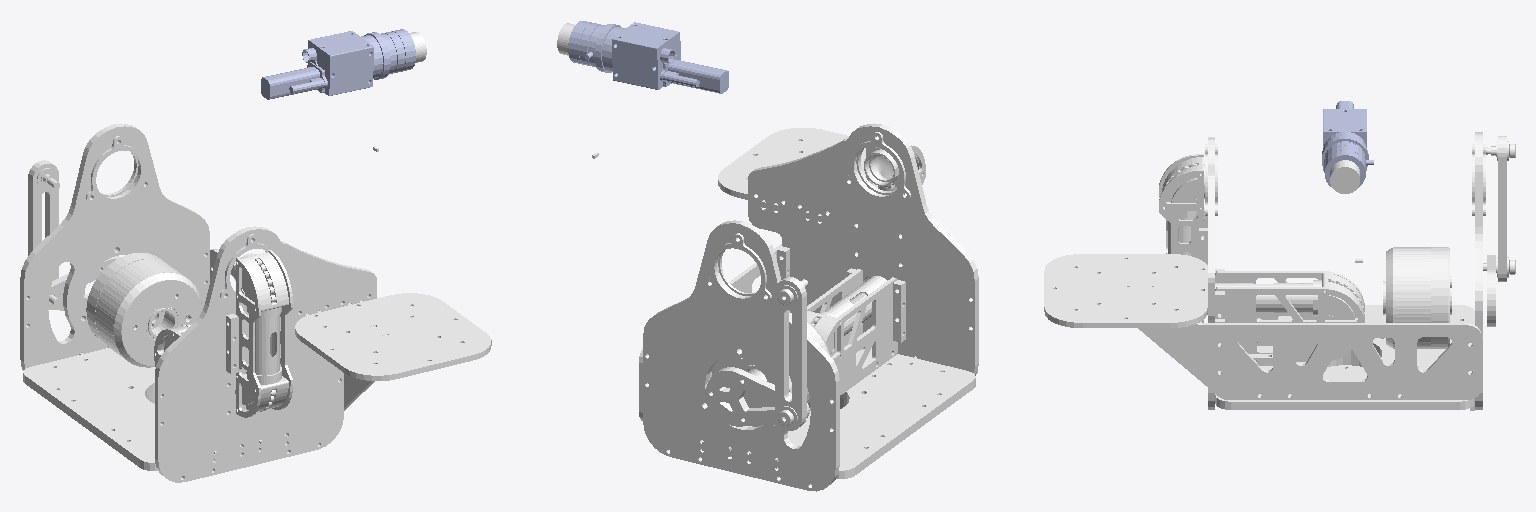
URDF robot description (infantry_description):
<?xml version="1.0" encoding="utf-8"?>
<!-- This URDF was automatically created by SolidWorks to URDF Exporter! Originally created by [author] ([email redacted]) 
     Commit Version: 1.6.0-4-g7f85cfe  Build Version: 1.6.7995.38578
     For more information, please see http://wiki.ros.org/sw_urdf_exporter -->
<robot
  name="infantry_description">
  <link
    name="base_link">
    <inertial>
      <origin
        xyz="-3.46944695195361E-18 0 -0.00500000000000001"
        rpy="0 0 0" />
      <mass
        value="0.00314159265358979" />
      <inertia
        ixx="1.0471975511966E-07"
        ixy="-6.44211342627335E-40"
        ixz="3.3800825853016E-24"
        iyy="1.0471975511966E-07"
        iyz="4.54297570299975E-24"
        izz="1.5707963267949E-07" />
    </inertial>
    <visual>
      <origin
        xyz="0 0 0"
        rpy="0 0 0" />
      <geometry>
        <mesh
          filename="package://infantry_description/meshes/base_link.STL" />
      </geometry>
      <material
        name="">
        <color
          rgba="1 1 1 1" />
      </material>
    </visual>
    <collision>
      <origin
        xyz="0 0 0"
        rpy="0 0 0" />
      <geometry>
        <mesh
          filename="package://infantry_description/meshes/base_link.STL" />
      </geometry>
    </collision>
  </link>
  <link
    name="yaw_link">
    <inertial>
      <origin
        xyz="0.00834189814872615 -0.00688166413835362 0.0610568636386575"
        rpy="0 0 0" />
      <mass
        value="1.32660368469229" />
      <inertia
        ixx="0.00193861324145548"
        ixy="6.76691433058715E-07"
        ixz="-5.27268220867132E-05"
        iyy="0.00200294577094062"
        iyz="4.06321530516485E-05"
        izz="0.00250502406103593" />
    </inertial>
    <visual>
      <origin
        xyz="0 0 0"
        rpy="0 0 0" />
      <geometry>
        <mesh
          filename="package://infantry_description/meshes/yaw_link.STL" />
      </geometry>
      <material
        name="">
        <color
          rgba="1 1 1 1" />
      </material>
    </visual>
    <collision>
      <origin
        xyz="0 0 0"
        rpy="0 0 0" />
      <geometry>
        <mesh
          filename="package://infantry_description/meshes/yaw_link.STL" />
      </geometry>
    </collision>
  </link>
  <joint
    name="yaw_joint"
    type="continuous">
    <origin
      xyz="0 0 0"
      rpy="0 0 0" />
    <parent
      link="base_link" />
    <child
      link="yaw_link" />
    <axis
      xyz="0 0 -1" />
  </joint>
  <link
    name="pitch_link">
    <inertial>
      <origin
        xyz="0.0255696747721257 -0.00201812789164019 0.0296693737327376"
        rpy="0 0 0" />
      <mass
        value="3.39218269149036" />
      <inertia
        ixx="0.00368889404219589"
        ixy="-5.01807358895163E-05"
        ixz="-5.03494072604962E-05"
        iyy="0.00574509405649246"
        iyz="-3.12431610382899E-05"
        izz="0.00727346379055831" />
    </inertial>
    <visual>
      <origin
        xyz="0 0 0"
        rpy="0 0 0" />
      <geometry>
        <mesh
          filename="package://infantry_description/meshes/pitch_link.STL" />
      </geometry>
      <material
        name="">
        <color
          rgba="0.792156862745098 0.819607843137255 0.933333333333333 1" />
      </material>
    </visual>
    <collision>
      <origin
        xyz="0 0 0"
        rpy="0 0 0" />
      <geometry>
        <mesh
          filename="package://infantry_description/meshes/pitch_link.STL" />
      </geometry>
    </collision>
  </link>
  <joint
    name="pitch_joint"
    type="revolute">
    <origin
      xyz="0 0 0.148999999999999"
      rpy="0 0.0286662329460563 0" />
    <parent
      link="yaw_link" />
    <child
      link="pitch_link" />
    <axis
      xyz="0 1 0" />
    <limit
      lower="-0.5"
      upper="0.5"
      effort="0"
      velocity="0" />
  </joint>
  <link
    name="camera_link">
    <inertial>
      <origin
        xyz="-0.0419085929621936 3.14771737040531E-05 -0.000836396037479425"
        rpy="0 0 0" />
      <mass
        value="0.0552197818714346" />
      <inertia
        ixx="6.40058481297208E-06"
        ixy="2.47911712008014E-08"
        ixz="-1.9575430282226E-06"
        iyy="3.55963428759284E-05"
        iyz="-7.31021152982736E-09"
        izz="3.54030765007355E-05" />
    </inertial>
    <visual>
      <origin
        xyz="0 0 0"
        rpy="0 0 0" />
      <geometry>
        <mesh
          filename="package://infantry_description/meshes/camera_link.STL" />
      </geometry>
      <material
        name="">
        <color
          rgba="0.792156862745098 0.819607843137255 0.933333333333333 1" />
      </material>
    </visual>
    <collision>
      <origin
        xyz="0 0 0"
        rpy="0 0 0" />
      <geometry>
        <mesh
          filename="package://infantry_description/meshes/camera_link.STL" />
      </geometry>
    </collision>
  </link>
  <joint
    name="camera_joint"
    type="fixed">
    <origin
      xyz="0.166040000000013 0 0.0892000000002173"
      rpy="0 0 0" />
    <parent
      link="pitch_link" />
    <child
      link="camera_link" />
    <axis
      xyz="0 0 0" />
  </joint>
  <link
    name="camera_optical_link">
    <inertial>
      <origin
        xyz="-2.05115924245547E-11 -4.21496171298941E-13 0.00499999999952727"
        rpy="0 0 0" />
      <mass
        value="0.00314159265358979" />
      <inertia
        ixx="1.0471975511966E-07"
        ixy="1.66296269940862E-27"
        ixz="-2.14759857194866E-16"
        iyy="1.0471975511966E-07"
        iyz="-4.05441336471948E-19"
        izz="1.5707963267949E-07" />
    </inertial>
    <visual>
      <origin
        xyz="0 0 0"
        rpy="0 0 0" />
      <geometry>
        <mesh
          filename="package://infantry_description/meshes/camera_optical_link.STL" />
      </geometry>
      <material
        name="">
        <color
          rgba="1 1 1 1" />
      </material>
    </visual>
    <collision>
      <origin
        xyz="0 0 0"
        rpy="0 0 0" />
      <geometry>
        <mesh
          filename="package://infantry_description/meshes/camera_optical_link.STL" />
      </geometry>
    </collision>
  </link>
  <joint
    name="camera_optical_joint"
    type="fixed">
    <origin
      xyz="0 0 0"
      rpy="-1.57079632679712 0 -1.57079633089651" />
    <parent
      link="camera_link" />
    <child
      link="camera_optical_link" />
    <axis
      xyz="0 0 0" />
  </joint>
  <link
    name="shoot_pitch_link">
    <inertial>
      <origin
        xyz="0.000999999999887285 0.00900000000000672 -0.000501372373278269"
        rpy="0 0 0" />
      <mass
        value="1.99999999999999E-05" />
      <inertia
        ixx="4.83333333333332E-11"
        ixy="-2.83346946818574E-26"
        ixz="-1.79734068645555E-26"
        iyy="1.33333333333332E-11"
        iyz="-6.2328631721132E-26"
        izz="4.83333333333332E-11" />
    </inertial>
    <visual>
      <origin
        xyz="0 0 0"
        rpy="0 0 0" />
      <geometry>
        <mesh
          filename="package://infantry_description/meshes/shoot_pitch_link.STL" />
      </geometry>
      <material
        name="">
        <color
          rgba="1 1 1 1" />
      </material>
    </visual>
    <collision>
      <origin
        xyz="0 0 0"
        rpy="0 0 0" />
      <geometry>
        <mesh
          filename="package://infantry_description/meshes/shoot_pitch_link.STL" />
      </geometry>
    </collision>
  </link>
  <joint
    name="shoot_pitch_joint"
    type="fixed">
    <origin
      xyz="0.14984 0 0.01785"
      rpy="0 0 0" />
    <parent
      link="pitch_link" />
    <child
      link="shoot_pitch_link" />
    <axis
      xyz="0 0 0" />
  </joint>
  <link
    name="shoot_yaw_link">
    <inertial>
      <origin
        xyz="0.000985218662676257 0.00900000000000672 -0.000529828692291845"
        rpy="0 0 0" />
      <mass
        value="1.99999999999999E-05" />
      <inertia
        ixx="4.83333333333332E-11"
        ixy="-3.01095357983056E-26"
        ixz="-1.8267060336524E-26"
        iyy="1.33333333333332E-11"
        iyz="-6.14908863893922E-26"
        izz="4.83333333333332E-11" />
    </inertial>
    <visual>
      <origin
        xyz="0 0 0"
        rpy="0 0 0" />
      <geometry>
        <mesh
          filename="package://infantry_description/meshes/shoot_yaw_link.STL" />
      </geometry>
      <material
        name="">
        <color
          rgba="1 1 1 1" />
      </material>
    </visual>
    <collision>
      <origin
        xyz="0 0 0"
        rpy="0 0 0" />
      <geometry>
        <mesh
          filename="package://infantry_description/meshes/shoot_yaw_link.STL" />
      </geometry>
    </collision>
  </link>
  <joint
    name="shoot_yaw_joint"
    type="revolute">
    <origin
      xyz="0.14984 0 0.01785"
      rpy="0 -0.028666 0" />
    <parent
      link="pitch_link" />
    <child
      link="shoot_yaw_link" />
    <axis
      xyz="0 -1 0" />
    <limit
      lower="-0.5"
      upper="0.5"
      effort="0"
      velocity="0" />
  </joint>
  <link
    name="lidar_link">
    <inertial>
      <origin
        xyz="1.38777878078145E-17 0 -0.0126045068130971"
        rpy="0 0 0" />
      <mass
        value="0.180770494766012" />
      <inertia
        ixx="9.19827587678221E-05"
        ixy="8.4273487754553E-21"
        ixz="-6.91478283874011E-21"
        iyy="9.1982758767822E-05"
        iyz="-3.22404457651239E-20"
        izz="0.000112374384395808" />
    </inertial>
    <visual>
      <origin
        xyz="0 0 0"
        rpy="0 0 0" />
      <geometry>
        <mesh
          filename="package://infantry_description/meshes/lidar_link.STL" />
      </geometry>
      <material
        name="">
        <color
          rgba="1 1 1 1" />
      </material>
    </visual>
    <collision>
      <origin
        xyz="0 0 0"
        rpy="0 0 0" />
      <geometry>
        <mesh
          filename="package://infantry_description/meshes/lidar_link.STL" />
      </geometry>
    </collision>
  </link>
  <joint
    name="lidar_joint"
    type="fixed">
    <origin
      xyz="0.0765 -0.1435 0.14259"
      rpy="0 0 0" />
    <parent
      link="yaw_link" />
    <child
      link="lidar_link" />
    <axis
      xyz="0 0 0" />
  </joint>
  <link
    name="gimbal_odom">
    <inertial>
      <origin
        xyz="-3.88578058618805E-16 5.55111512312578E-17 -0.161499999999999"
        rpy="0 0 0" />
      <mass
        value="0.000392699081698724" />
      <inertia
        ixx="3.27249234748937E-09"
        ixy="-1.01458248356218E-40"
        ixz="4.77925033611664E-25"
        iyy="3.27249234748937E-09"
        iyz="-3.67801697729567E-25"
        izz="4.90873852123405E-09" />
    </inertial>
    <visual>
      <origin
        xyz="0 0 0"
        rpy="0 0 0" />
      <geometry>
        <mesh
          filename="package://infantry_description/meshes/gimbal_odom.STL" />
      </geometry>
      <material
        name="">
        <color
          rgba="1 1 1 1" />
      </material>
    </visual>
    <collision>
      <origin
        xyz="0 0 0"
        rpy="0 0 0" />
      <geometry>
        <mesh
          filename="package://infantry_description/meshes/gimbal_odom.STL" />
      </geometry>
    </collision>
  </link>
  <joint
    name="gimbal_joint"
    type="fixed">
    <origin
      xyz="0 0 0.149"
      rpy="0 0 0" />
    <parent
      link="base_link" />
    <child
      link="gimbal_odom" />
    <axis
      xyz="0 0 0" />
  </joint>
</robot>

--- What the picture shows (computed from the rendered views, not written in the file) ---
3 views of the same robot in one strip: view 1: azimuth 30°, elevation 25°; view 2: azimuth 150°, elevation 25°; view 3: azimuth 270°, elevation 25° (orthographic).
Robot: infantry_description — 9 links, 8 joints (2 revolute, 1 continuous, 5 fixed); root link base_link; default pose: all joints at 0.
Visible links, largest first — view 1: yaw_link, camera_link; view 2: yaw_link, camera_link; view 3: yaw_link, camera_link, camera_optical_link.
Boxes of the visible links, x1,y1,x2,y2 form: yaw_link: [20, 124, 491, 482]; camera_link: [261, 29, 415, 99]; yaw_link: [639, 123, 978, 491]; camera_link: [568, 21, 728, 93]; yaw_link: [1044, 132, 1515, 410]; camera_link: [1322, 101, 1373, 187]; camera_optical_link: [1330, 160, 1359, 193].
Size in the robot's own frame: 0.2538 by 0.3086 by 0.2498 metres.
4 mesh visuals loaded from 9 distinct referenced files (4 binary STL); not drawn: 5 (reference not matched to a file when rendering).